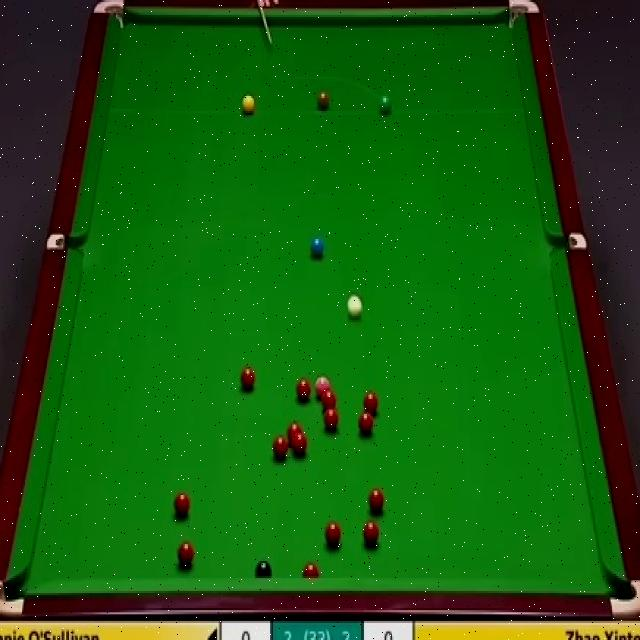black-ball: (254, 556, 272, 582)
blue-ball: (310, 238, 324, 258)
brown-ball: (316, 93, 329, 113)
green-ball: (377, 93, 393, 116)
pink-ball: (314, 373, 330, 397)
red-ball: (172, 490, 192, 518), (366, 487, 386, 515), (362, 519, 380, 548), (238, 365, 256, 392), (325, 519, 342, 547), (177, 540, 194, 566), (323, 407, 340, 433), (295, 376, 312, 402), (292, 430, 308, 455), (358, 411, 374, 436), (362, 390, 380, 412), (272, 435, 288, 459), (320, 390, 337, 410), (302, 562, 319, 578), (287, 422, 302, 440)
white-ball: (346, 292, 364, 320)
yellow-ball: (241, 91, 255, 115)
